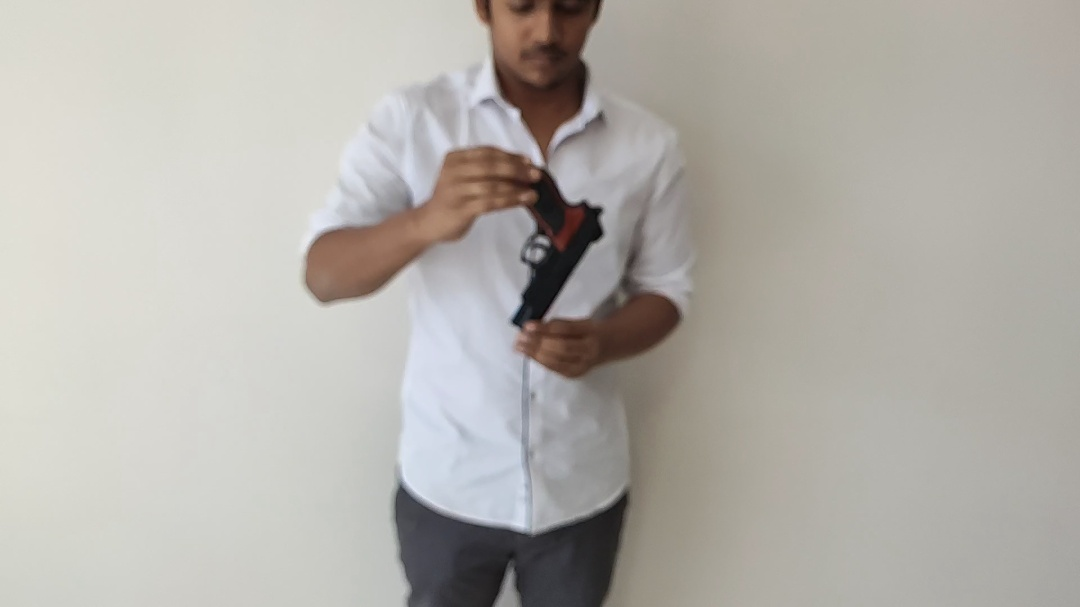gun: (511, 168, 604, 329)
